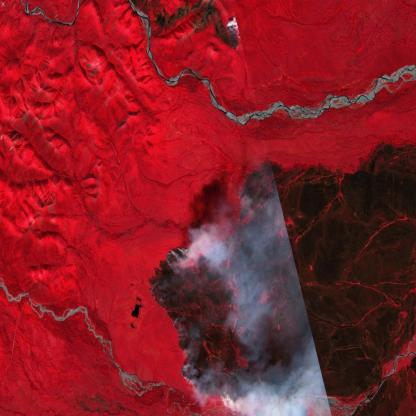fire: (149, 279, 270, 416), (160, 232, 234, 272), (223, 12, 244, 48)
